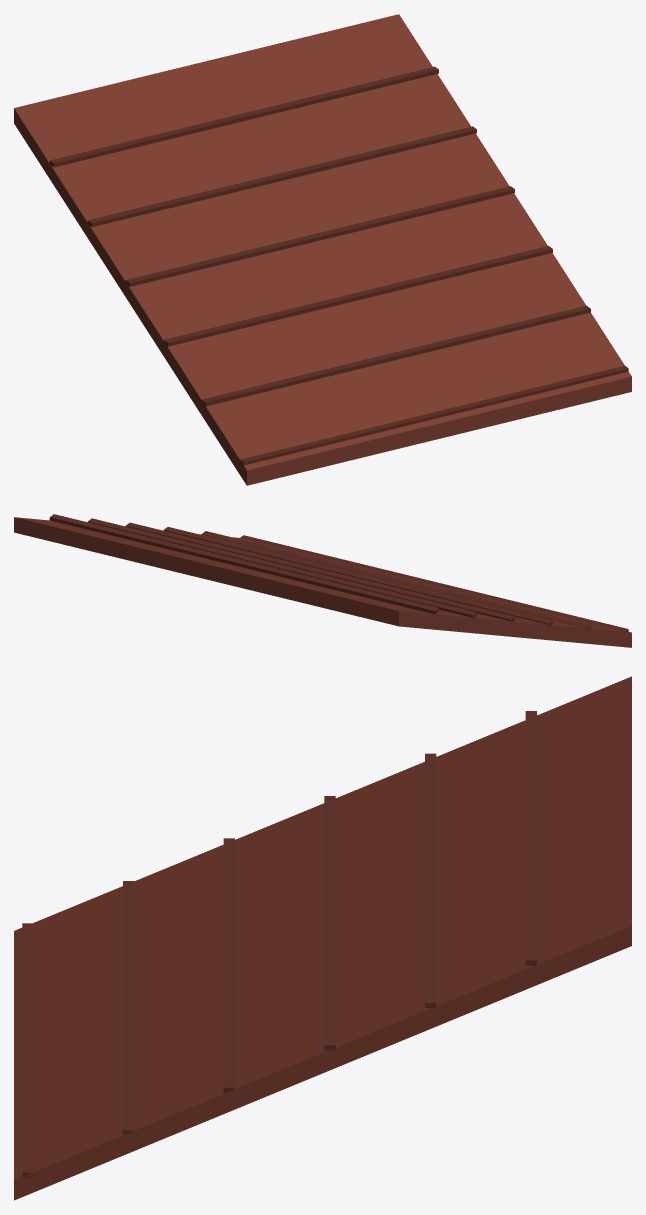
File: roof_slope_2x2.glb
3 renders of one model, top to bottom at view 1: azimuth 30°, elevation 25°; view 2: azimuth 150°, elevation 25°; view 3: azimuth 270°, elevation 25°, orthographic. The views are drawn at different scales.
Visible parts, largest first — view 1: roof_slope_2x2; view 2: roof_slope_2x2; view 3: roof_slope_2x2.
Part boxes in pixels (x1,y1,x2,y2): roof_slope_2x2: (14, 14, 631, 485); roof_slope_2x2: (14, 514, 631, 647); roof_slope_2x2: (14, 676, 631, 1200).
Bounding box in the file's own units: 2.1 × 1.08 × 2.2.
